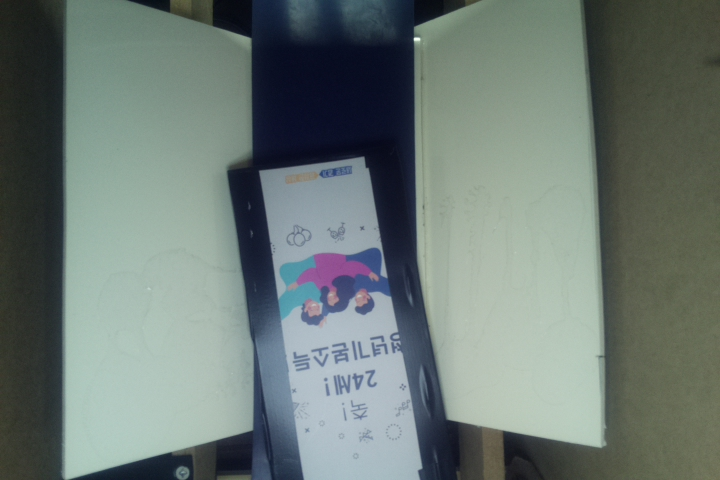book: (228, 149, 458, 480)
